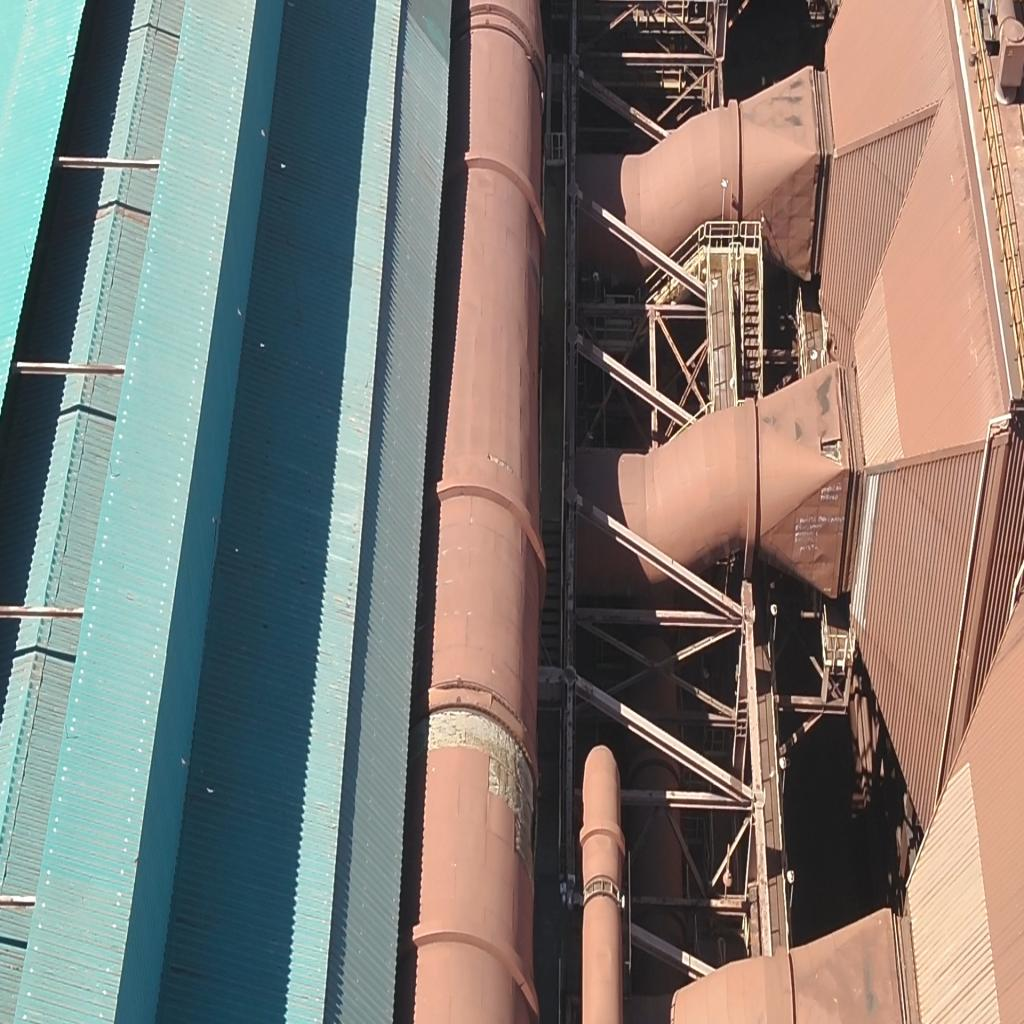Failures: (414, 695, 536, 866), (819, 425, 848, 479)
